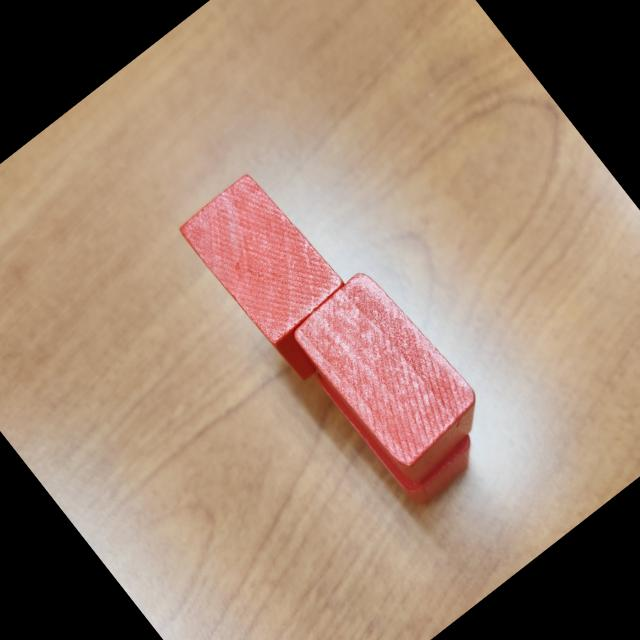red: (284, 258, 500, 489), (175, 165, 365, 369), (312, 321, 486, 510), (218, 223, 378, 388)
